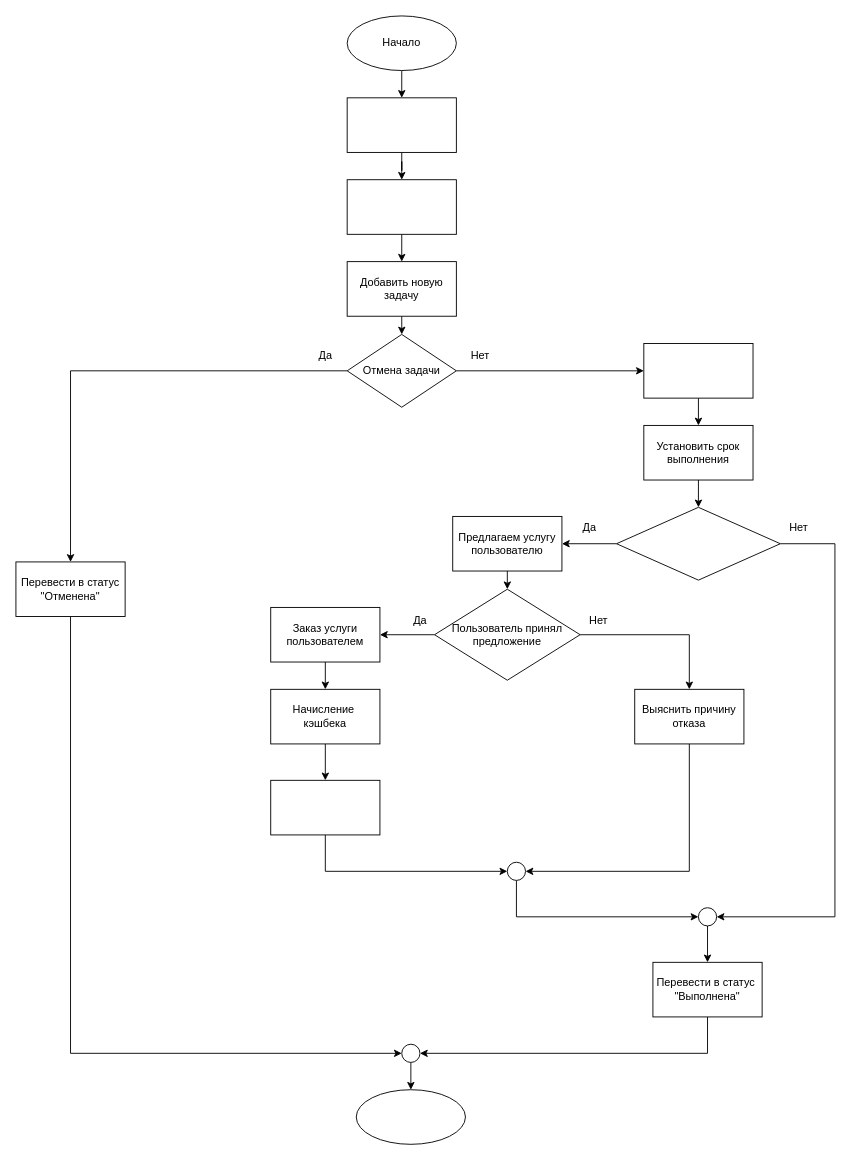
Some shapes in this 858 by 1160 pixel diagram are drawn without their labels. Here are the shapes that lost their labels. From the top down, the box of each, then its label:
(346, 97, 456, 152): Открыть приложение
(346, 179, 456, 234): Перейти в "Планировщик задач"
(643, 343, 753, 398): Ввести название и описание задачи
(616, 506, 780, 580): Есть ли подходящая услуга в каталоге
(270, 779, 380, 835): Уведомление о выполнении услуги
(355, 1089, 465, 1144): Конец
